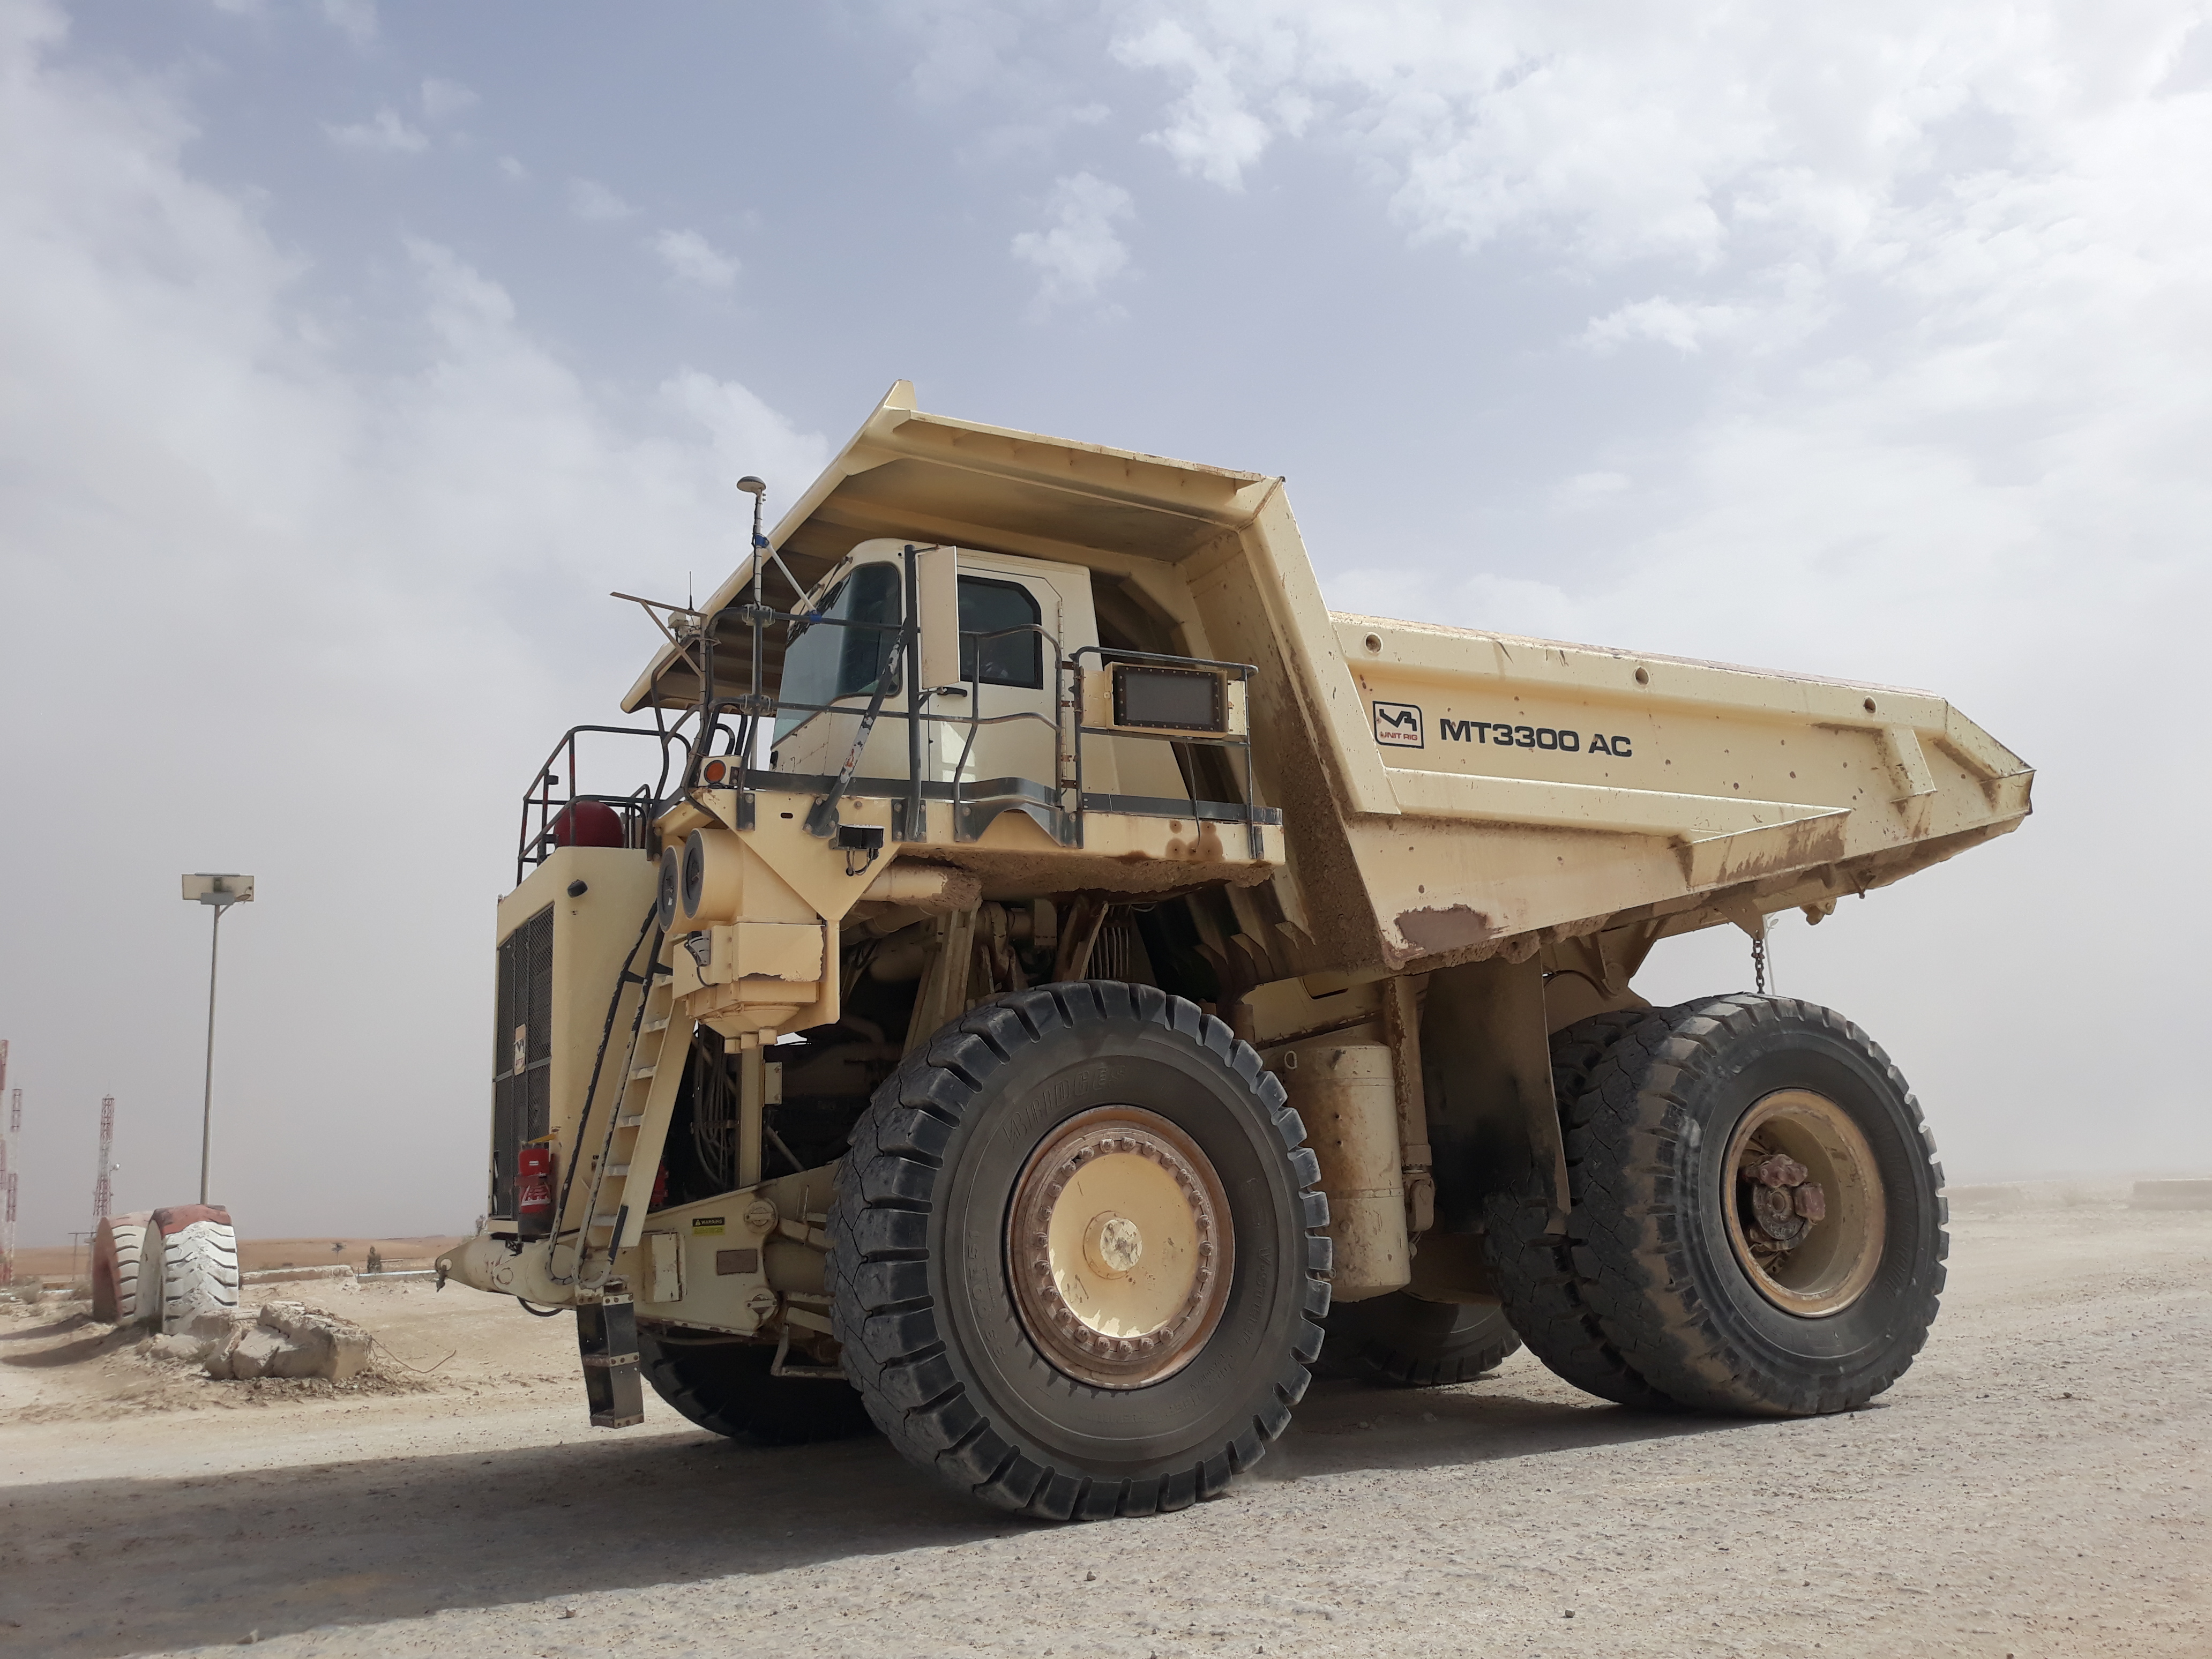camion: (444, 362, 2090, 1547)
